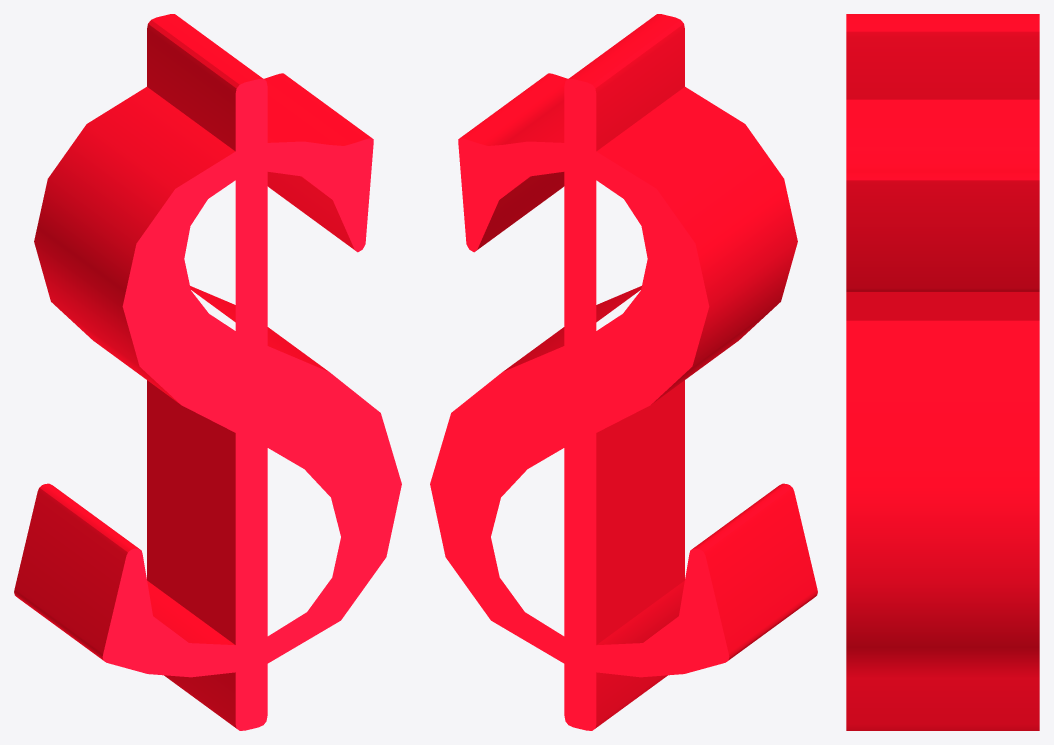
Rendered from symbol$_Soul_Red.glb.
3 renders of one model, left to right at view 1: azimuth 30°, elevation 25°; view 2: azimuth 150°, elevation 25°; view 3: azimuth 270°, elevation 25°, orthographic. The views are drawn at different scales.
Visible parts, largest first — view 1: $_Soul_Red; view 2: $_Soul_Red; view 3: $_Soul_Red.
Boxes of the visible parts, box(x1,y1,x2,y2) form: $_Soul_Red: box(14, 14, 401, 730); $_Soul_Red: box(430, 14, 817, 730); $_Soul_Red: box(846, 14, 1039, 730).
Size of what is drawn, in the model's own units: 0.0878 by 0.1816 by 0.045.
Materials: 2 (2 with a texture image).
